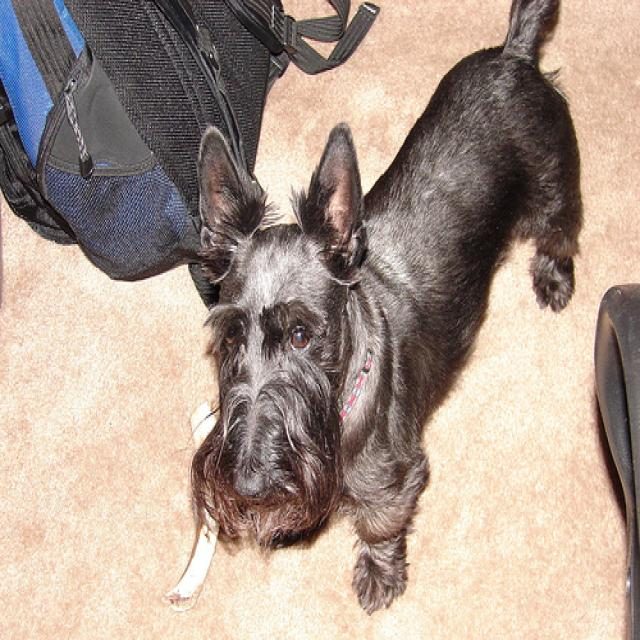dog-scottish_terrier: (184, 2, 598, 616)
